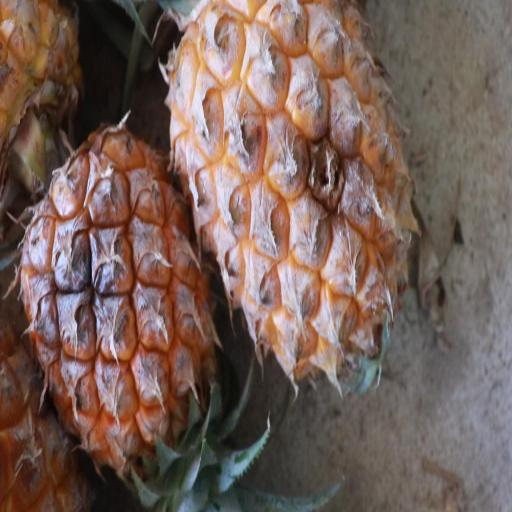Pineapple - v8 v1: (159, 0, 418, 407), (13, 120, 220, 485)
